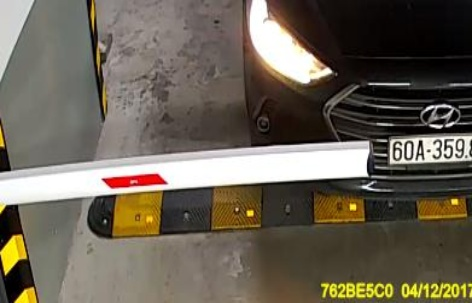plate: (387, 132, 472, 168)
